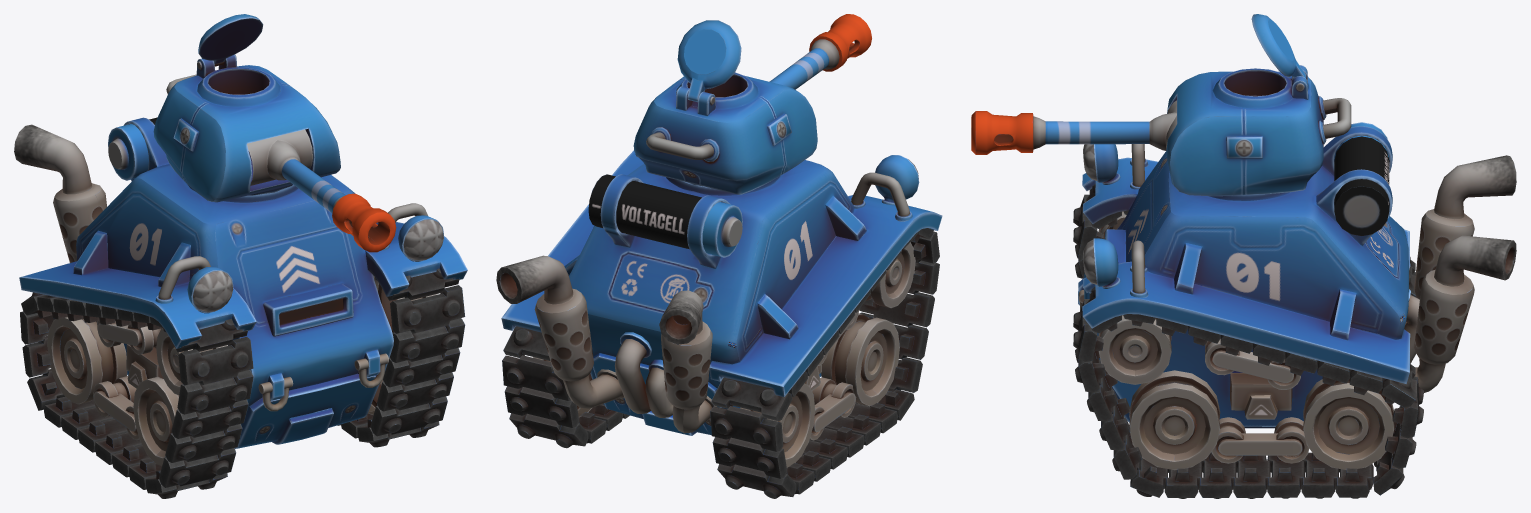
File: MediumTank_Full.fbx
3 renders of one model, left to right at view 1: azimuth 30°, elevation 25°; view 2: azimuth 150°, elevation 25°; view 3: azimuth 270°, elevation 25°, orthographic. The views are drawn at different scales.
Visible parts, largest first — view 1: Medium_Body_mesh, Medium_Track_Right_mesh, Medium_Cupola, Medium_Track_Left_mesh, Medium_Exhaust_mesh, Medium_Barrel, Medium_Hatch, 1.5VBattery_mesh, Medium_Hooks_mesh; view 2: Medium_Body_mesh, Medium_Track_Right_mesh, Medium_Cupola, Medium_Exhaust_mesh, Medium_Track_Left_mesh, 1.5VBattery_mesh, Medium_Hatch, Medium_Barrel; view 3: Medium_Body_mesh, Medium_Track_Left_mesh, Medium_Cupola, Medium_Exhaust_mesh, Medium_Barrel, 1.5VBattery_mesh, Medium_Hatch, Medium_Track_Right_mesh.
Part boxes in pixels (x1=…): Medium_Body_mesh: x1=19, y1=117, x2=467, y2=466; Medium_Track_Right_mesh: x1=20, y1=292, x2=253, y2=498; Medium_Cupola: x1=153, y1=54, x2=340, y2=202; Medium_Track_Left_mesh: x1=337, y1=268, x2=465, y2=447; Medium_Exhaust_mesh: x1=14, y1=124, x2=106, y2=262; Medium_Barrel: x1=282, y1=159, x2=396, y2=252; Medium_Hatch: x1=198, y1=14, x2=263, y2=63; 1.5VBattery_mesh: x1=108, y1=117, x2=157, y2=180; Medium_Hooks_mesh: x1=258, y1=353, x2=388, y2=411; Medium_Body_mesh: x1=501, y1=150, x2=942, y2=467; Medium_Track_Right_mesh: x1=710, y1=228, x2=939, y2=498; Medium_Cupola: x1=633, y1=72, x2=817, y2=194; Medium_Exhaust_mesh: x1=496, y1=255, x2=716, y2=433; Medium_Track_Left_mesh: x1=502, y1=326, x2=629, y2=448; 1.5VBattery_mesh: x1=588, y1=174, x2=742, y2=257; Medium_Hatch: x1=677, y1=20, x2=741, y2=102; Medium_Barrel: x1=769, y1=14, x2=871, y2=89; Medium_Body_mesh: x1=1078, y1=126, x2=1419, y2=470; Medium_Track_Left_mesh: x1=1073, y1=286, x2=1423, y2=498; Medium_Cupola: x1=1149, y1=65, x2=1351, y2=196; Medium_Exhaust_mesh: x1=1414, y1=155, x2=1516, y2=392; Medium_Barrel: x1=971, y1=111, x2=1149, y2=154; 1.5VBattery_mesh: x1=1334, y1=122, x2=1389, y2=235; Medium_Hatch: x1=1251, y1=14, x2=1305, y2=78; Medium_Track_Right_mesh: x1=1073, y1=184, x2=1416, y2=297.
Size of the model in its own units: 88.65 by 121 by 144.
